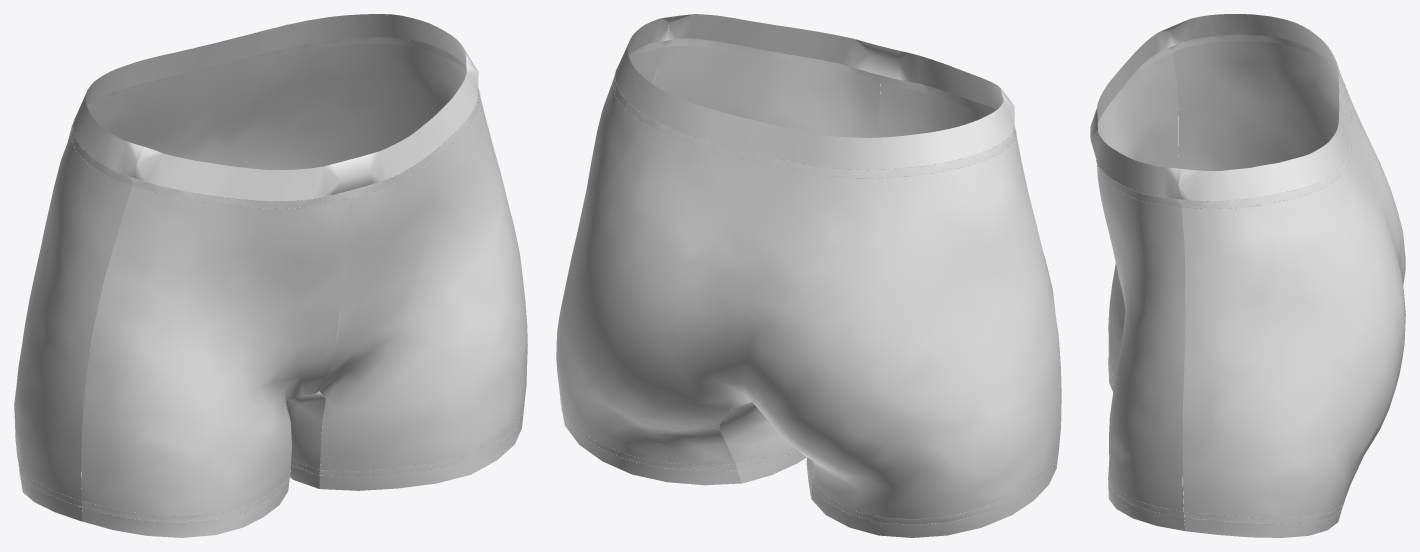
Rendered from Panta ASIA.draco.glb.
3 views of the same model, side by side, from view 1: azimuth 30°, elevation 25°; view 2: azimuth 150°, elevation 25°; view 3: azimuth 270°, elevation 25° (orthographic). The views are drawn at different scales.
Visible parts, largest first — view 1: PANTA ASIA.FRONT DX, PANTA ASIA.RETRO, PANTA ASIA.FRONT SX, PANTA ASIA.PATELLO, PANTA ASIA; view 2: PANTA ASIA.RETRO, PANTA ASIA.FRONT SX, PANTA ASIA.FRONT DX, PANTA ASIA.PATELLO, PANTA ASIA; view 3: PANTA ASIA.RETRO, PANTA ASIA.FRONT SX, PANTA ASIA.FRONT DX, PANTA ASIA.
Part boxes in pixels (x1=…): PANTA ASIA.FRONT DX: x1=81, y1=147, x2=355, y2=537; PANTA ASIA.RETRO: x1=14, y1=14, x2=523, y2=521; PANTA ASIA.FRONT SX: x1=314, y1=62, x2=527, y2=490; PANTA ASIA.PATELLO: x1=286, y1=391, x2=325, y2=488; PANTA ASIA: x1=18, y1=91, x2=524, y2=523; PANTA ASIA.RETRO: x1=556, y1=16, x2=1061, y2=537; PANTA ASIA.FRONT SX: x1=653, y1=14, x2=884, y2=137; PANTA ASIA.FRONT DX: x1=877, y1=46, x2=1061, y2=439; PANTA ASIA.PATELLO: x1=719, y1=402, x2=814, y2=498; PANTA ASIA: x1=560, y1=63, x2=1059, y2=524; PANTA ASIA.RETRO: x1=1170, y1=14, x2=1405, y2=537; PANTA ASIA.FRONT SX: x1=1090, y1=120, x2=1185, y2=530; PANTA ASIA.FRONT DX: x1=1090, y1=25, x2=1178, y2=392; PANTA ASIA: x1=1096, y1=79, x2=1352, y2=524.
Size of the model in its own units: 36.75 by 30.02 by 23.18.
Materials: 5 (1 with a texture image).
